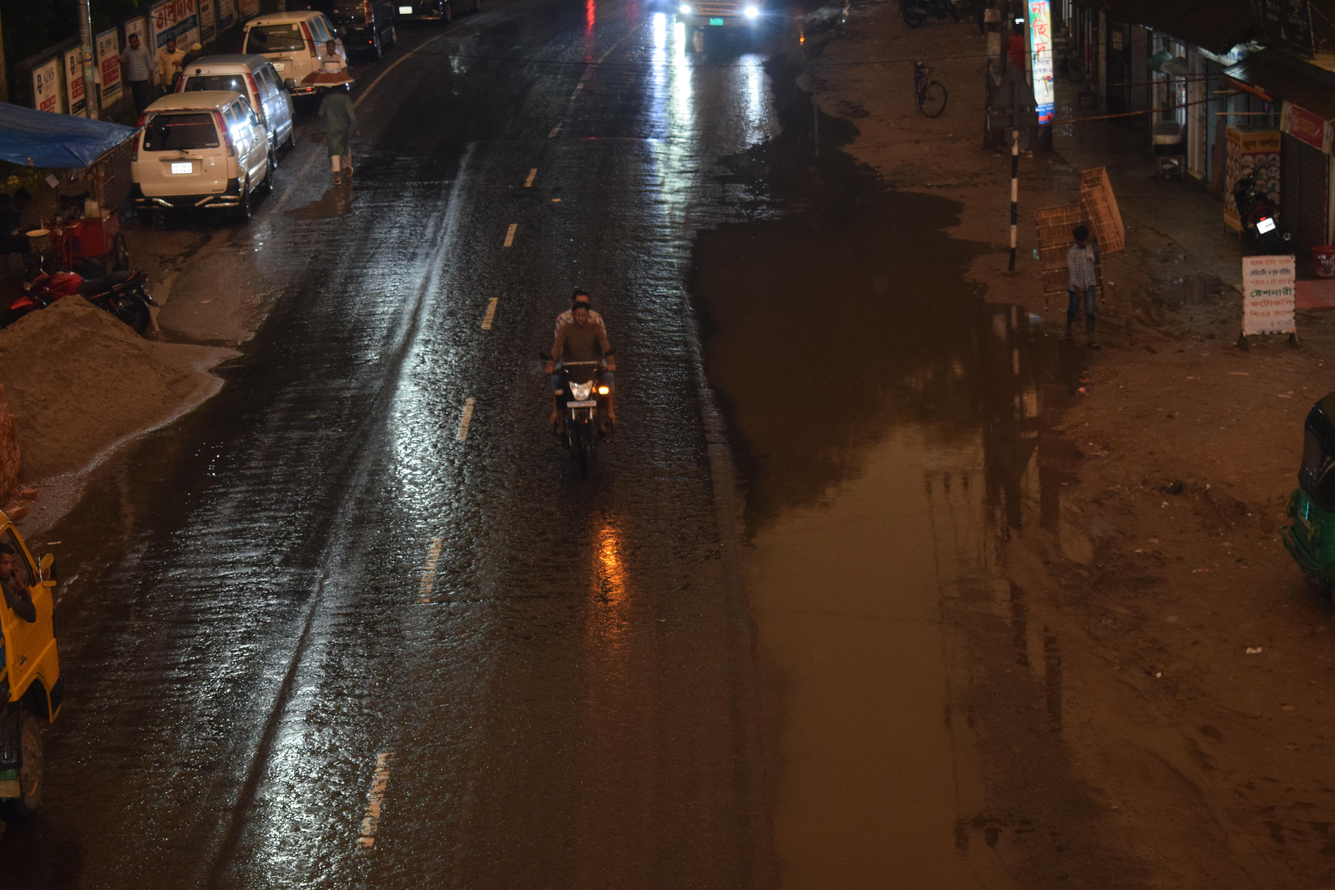Bike: (505, 257, 691, 513)
Car: (107, 78, 307, 243), (170, 22, 318, 171), (222, 0, 382, 99), (307, 0, 421, 72)
Truck: (0, 471, 121, 844)
